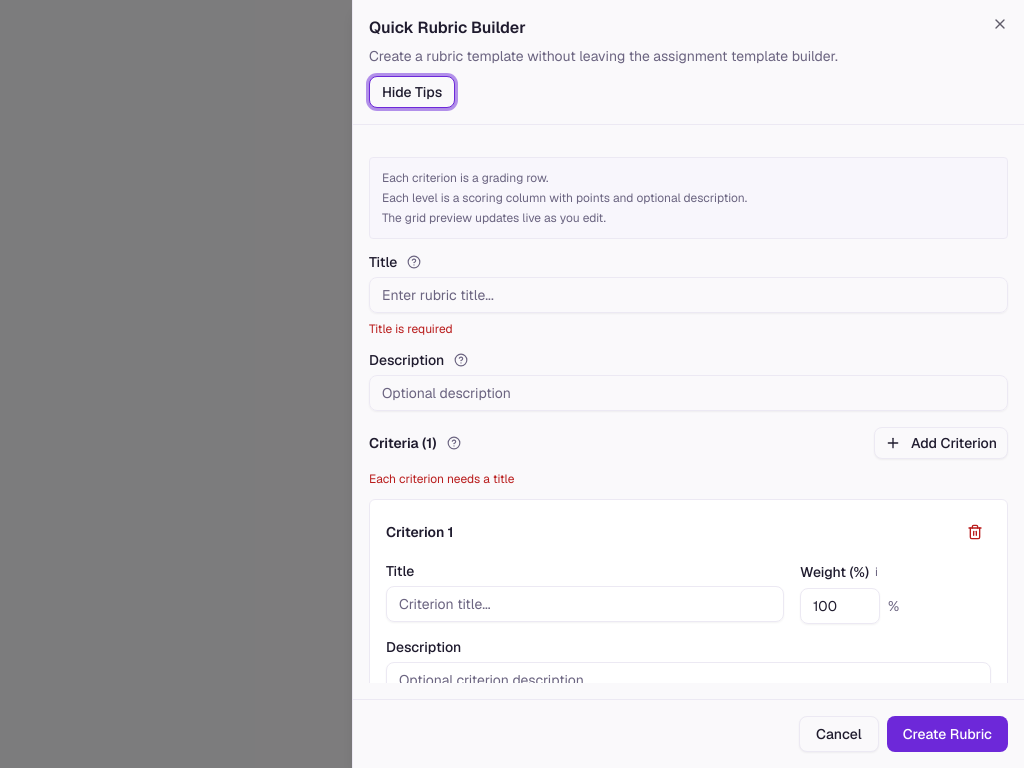
RubricQuickBuilderDrawer › toggles tips visibility
Click the button "Hide Tips".
click(412, 92)  # box 369,76 -> 455,108
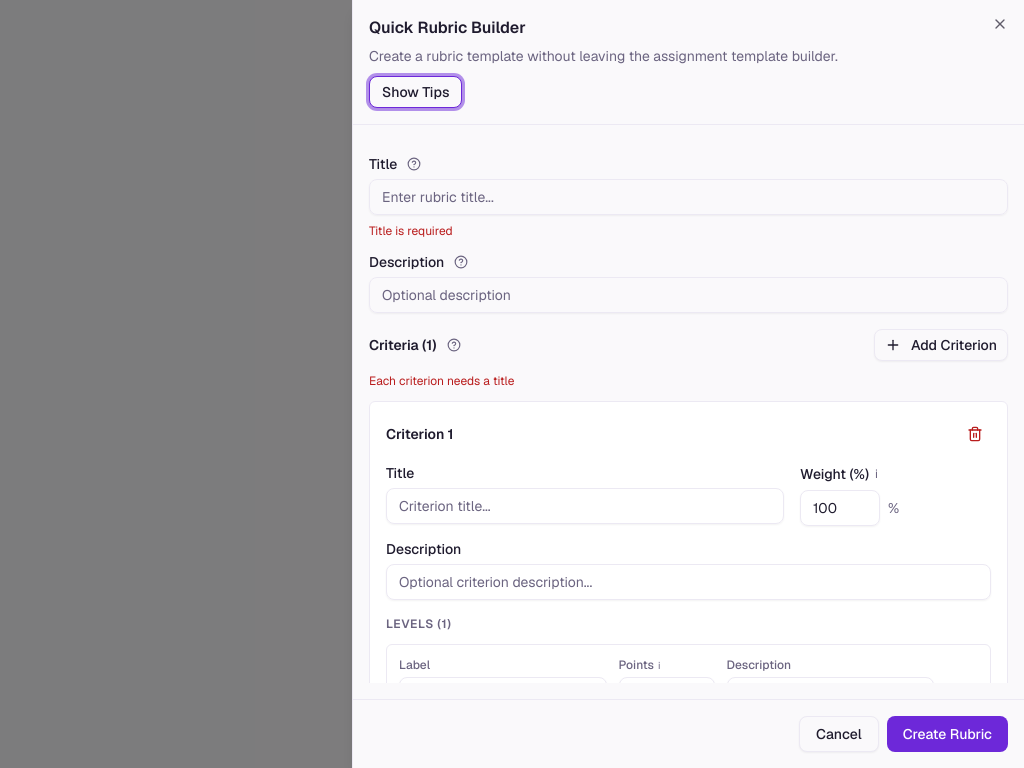
Now the text "Each criterion is a grading row." is gone
Now the button "Show Tips" is shown, box 369,76 -> 462,108
